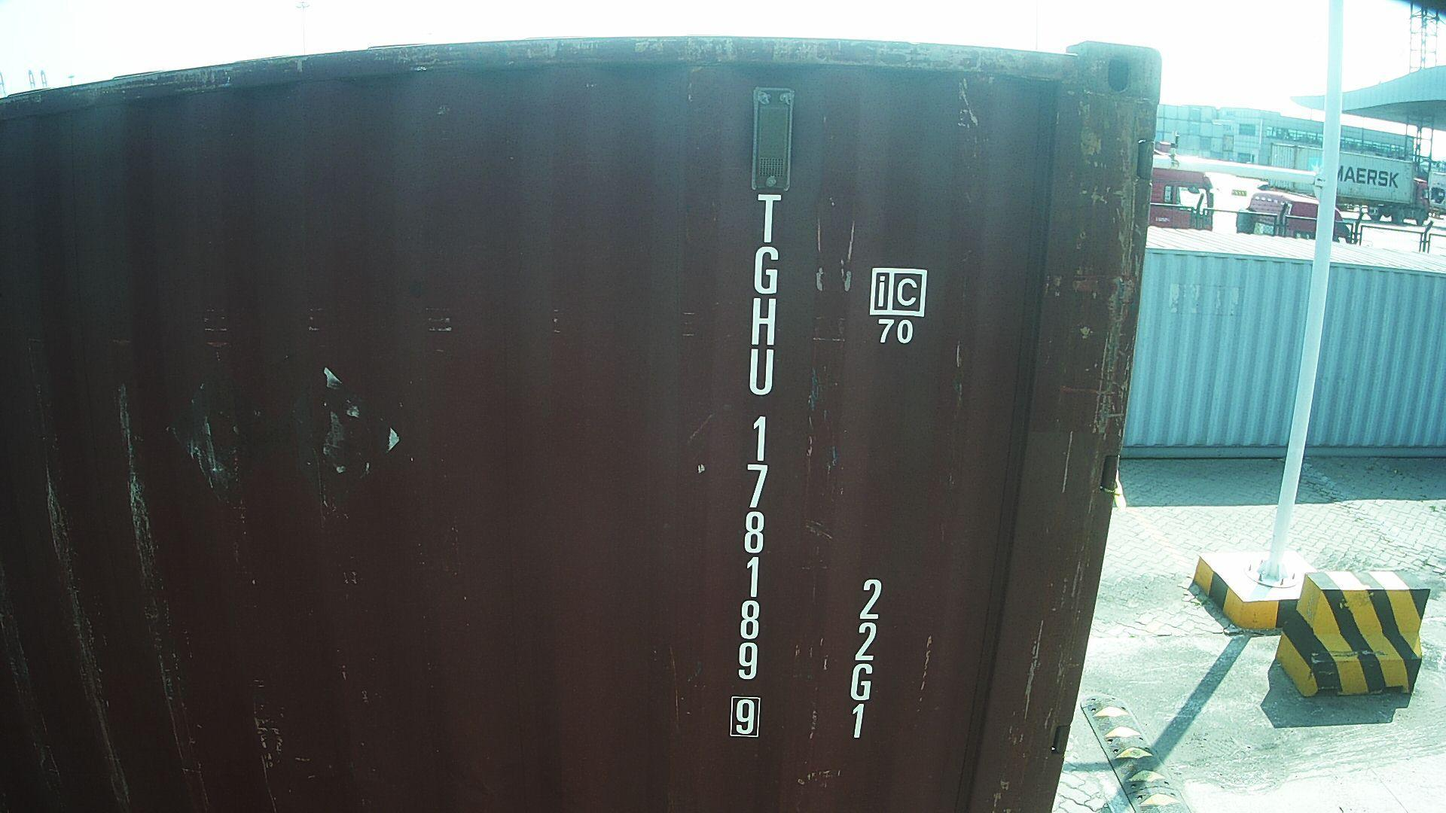container-numbers: (725, 187, 789, 745), (844, 576, 892, 747)
